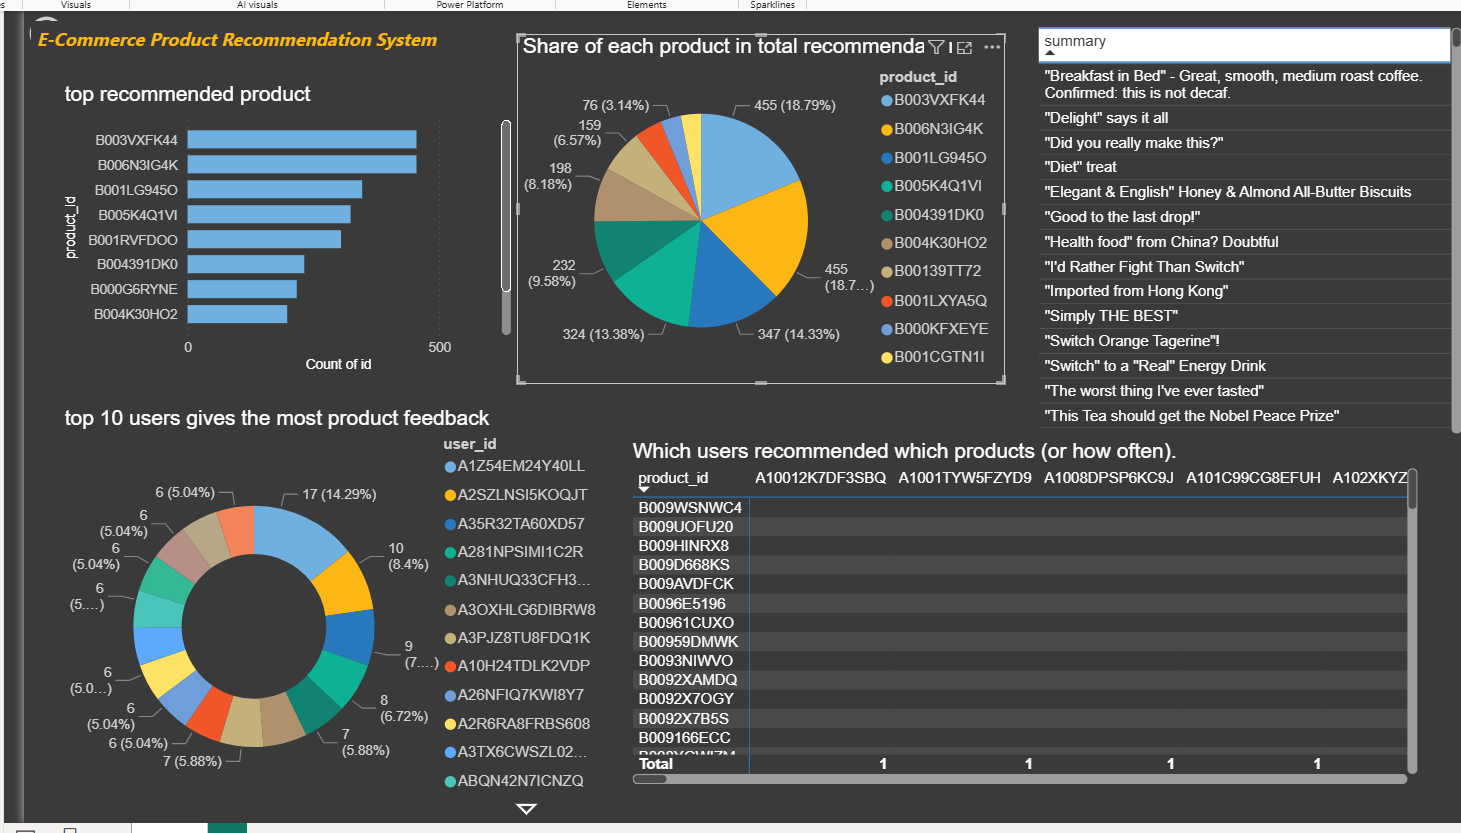

The page's visual inventory and layout, read from the dashboard file:
{"tool":"powerbi","page":{"name":"Page 1","canvas":[1280,720],"ordinal":0},"visuals":[{"type":"actionButton","box":[0,0,100,40],"z":0},{"type":"clusteredBarChart","title":"top recommended product","fields":{"Category":["ecommerce_db recommendations.product_id"],"Y":["CountNonNull(ecommerce_db recommendations.id)"]},"box":[31.3,62.7,405.7,262.4],"z":1000},{"type":"donutChart","title":"top 10 users gives the most product feedback","fields":{"Category":["ecommerce_db recommendations.user_id"],"Y":["CountNonNull(ecommerce_db recommendations.id)"]},"box":[31.3,350.1,490.7,369.9],"z":2000},{"type":"pieChart","title":"Share of each product in total recommendations","fields":{"Category":["ecommerce_db recommendations.product_id"],"Y":["CountNonNull(ecommerce_db recommendations.id)"]},"box":[437,20.6,432.5,309.9],"z":3000},{"type":"pivotTable","title":"Which users recommended which products (or how often).","fields":{"Rows":["ecommerce_db recommendations.product_id"],"Columns":["ecommerce_db recommendations.user_id"],"Values":["CountNonNull(ecommerce_db recommendations.id)"]},"box":[534.7,379.5,705.8,311.2],"z":4000},{"type":"tableEx","fields":{"Values":["ecommerce_db recommendations.summary"]},"box":[893.7,9.9,386,369.9],"z":5000}]}

Visuals, with their boxes in screenshot pixels (x1, y1, x2, y2):
actionButton: (left=0, top=42, right=78, bottom=87)
"top recommended product" clusteredBarChart: (left=1, top=112, right=458, bottom=408)
"top 10 users gives the most product feedback" donutChart: (left=1, top=436, right=553, bottom=832)
"Share of each product in total recommendations" pieChart: (left=458, top=65, right=944, bottom=414)
"Which users recommended which products (or how often)." pivotTable: (left=568, top=469, right=1362, bottom=819)
tableEx - ecommerce_db recommendations.summary: (left=972, top=53, right=1406, bottom=469)
